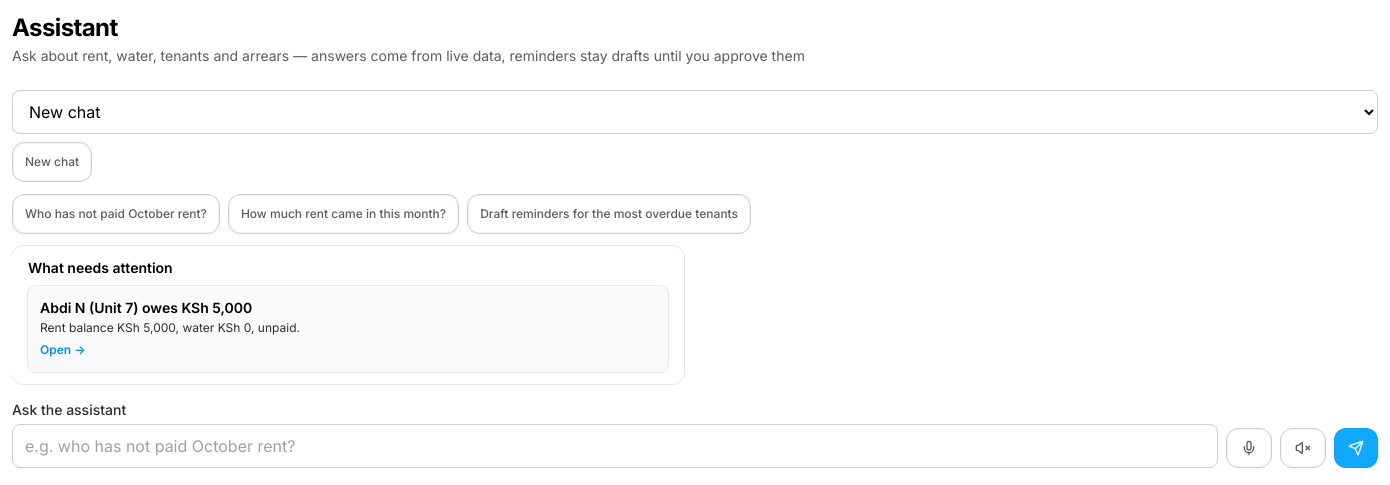
Test: Assistant threads and briefing › switching threads loads that thread's messages
The image size is (1390, 485).
Select "October chase" in the dropdown named "Conversation" at (695, 112), box [12,90,1378,134]
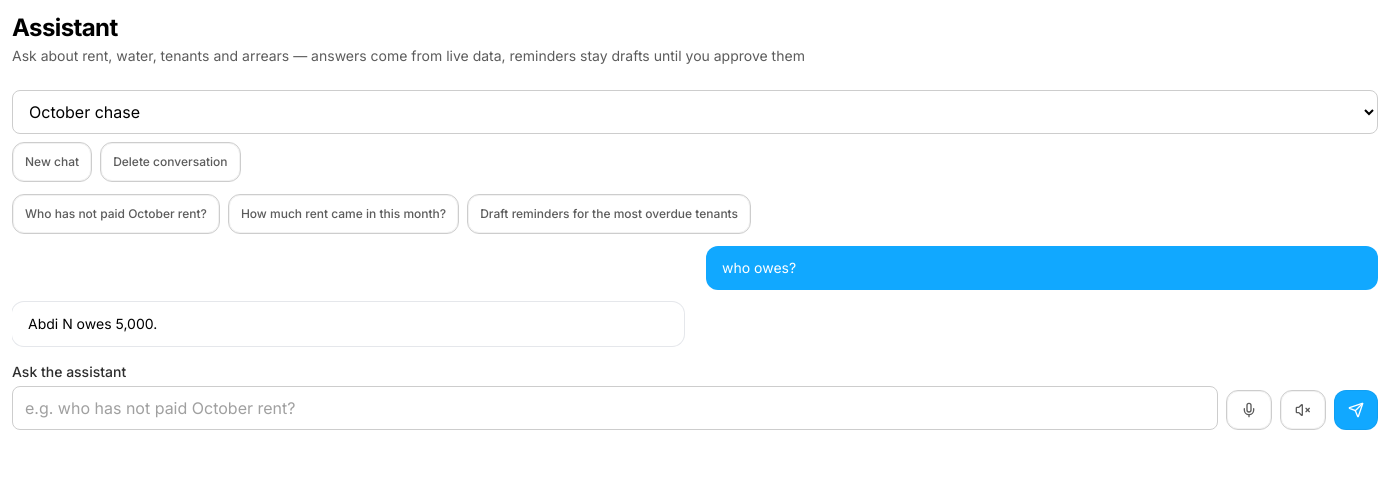
Result: the text "who owes?" is shown at [722,259,796,276]
Result: the text "Abdi N owes 5,000." is shown at [28,315,157,332]
